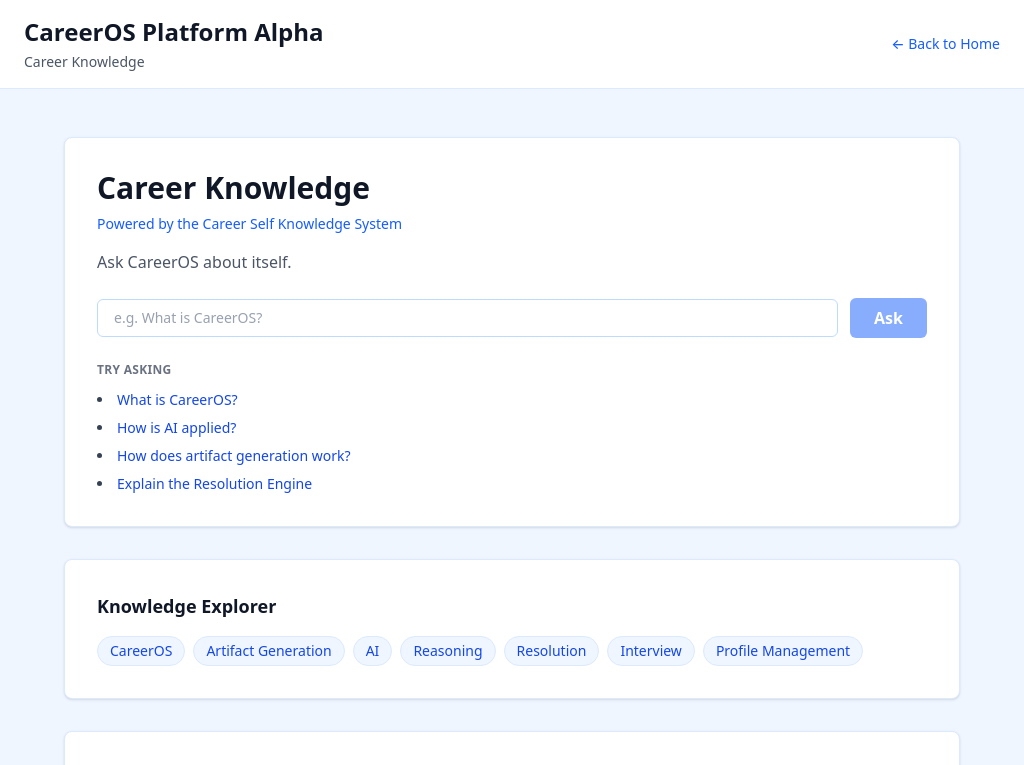
Test: CareerKnowledgePage › pre-fills the search box when an example question is clicked
Click the button "How does artifact generation work?".
click(234, 456)  # box [117, 446, 351, 466]
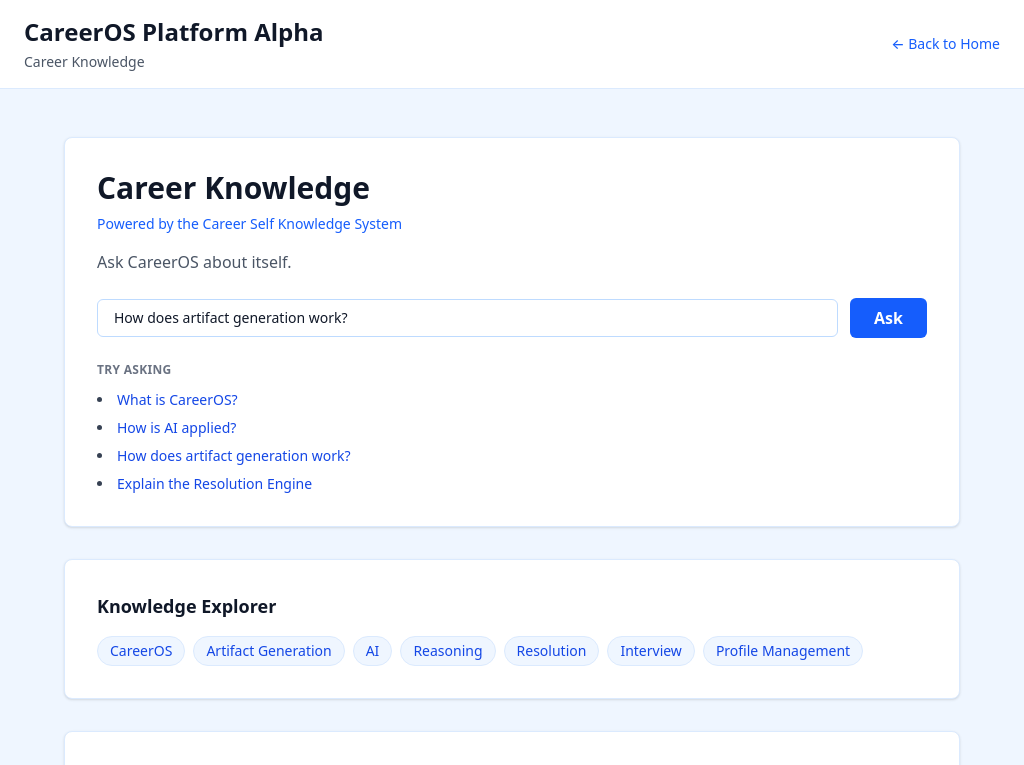
Result: the field with placeholder "e.g. What is CareerOS?" holds "How does artifact generation work?" at [97, 299, 838, 337]
